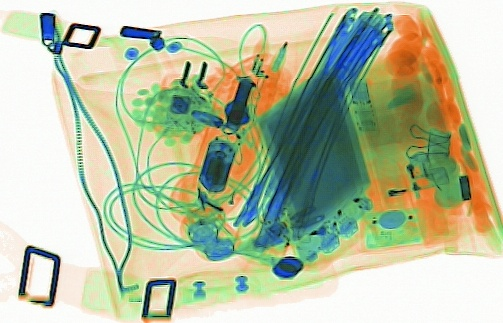lighter: (357, 163, 451, 204), (395, 119, 437, 208)
